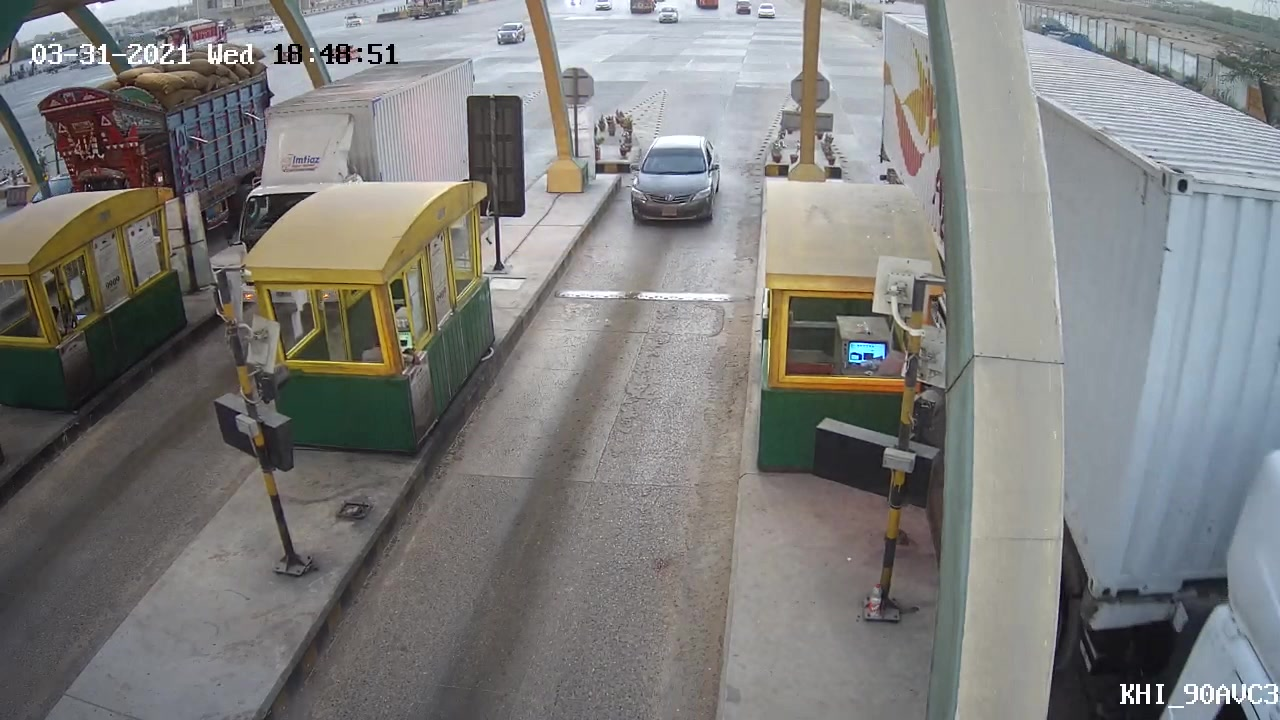F1: (629, 128, 733, 228)
